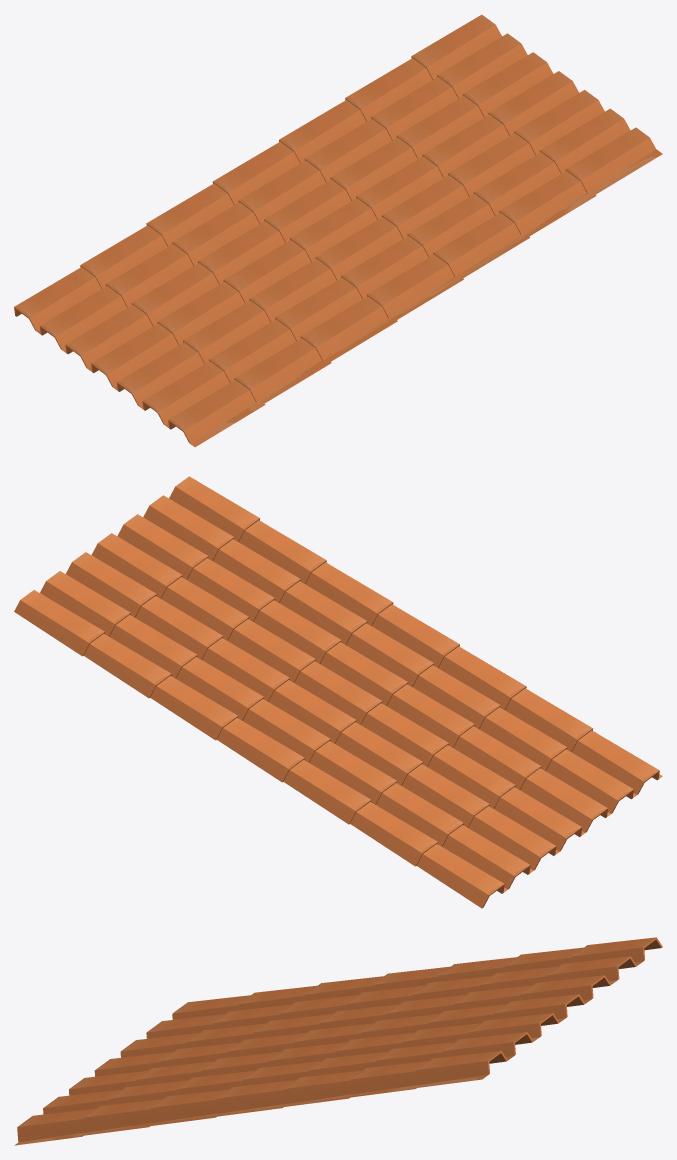
File: Roof_03.fbx
3 views of the same model, one above another, from view 1: azimuth 30°, elevation 25°; view 2: azimuth 150°, elevation 25°; view 3: azimuth 330°, elevation 25° (orthographic).
Visible parts, largest first — view 1: Roof_03; view 2: Roof_03; view 3: Roof_03.
Part boxes in pixels (left/top/right/bottom): Roof_03: left=14, top=14, right=662, bottom=447; Roof_03: left=14, top=476, right=662, bottom=908; Roof_03: left=14, top=937, right=662, bottom=1145.
Bounding box in the file's own units: 421 × 163 × 280.
